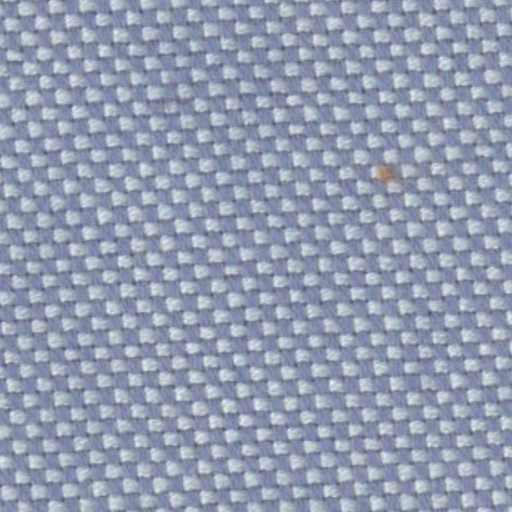WuZi: (364, 146, 409, 187)
